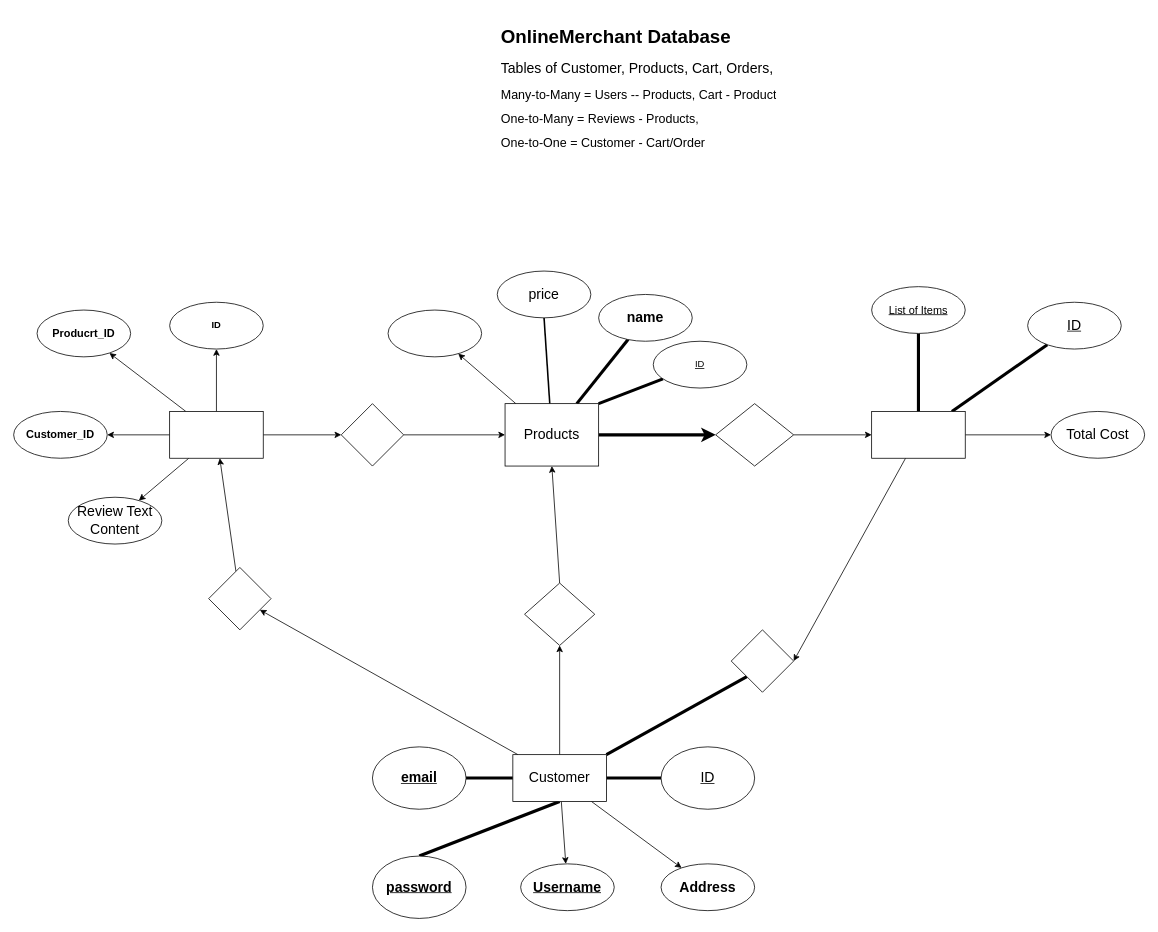
The diagram is 1158 pixels wide and 932 high, and some of its shapes have lost their labels. Here are the shapes that lost their labels. From the top down, the centre of each, then its label:
At [434,333]: "Categories".
At [216,434]: "Reviews".
At [372,434]: "about".
At [754,434]: "adds to".
At [918,434]: "Cart".
At [239,598]: "Writes/Reads".
At [559,613]: "searches".
At [762,660]: "Buys".
